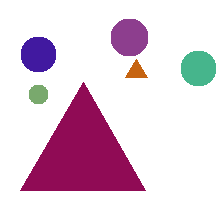circle: (111, 19, 147, 55), (181, 51, 215, 85), (21, 37, 55, 71), (29, 85, 47, 103)
triangle: (20, 82, 145, 190), (125, 59, 147, 77)
